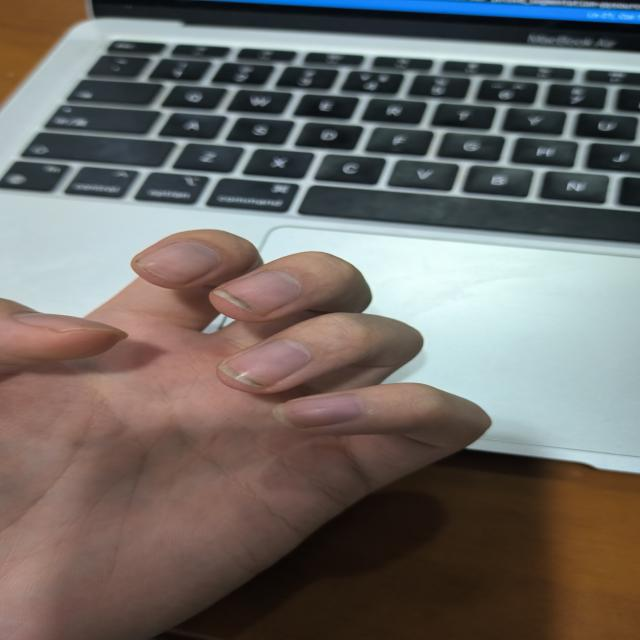Nail: (220, 339, 313, 386), (216, 271, 302, 316), (137, 242, 221, 284), (275, 395, 367, 428), (14, 312, 129, 335)
